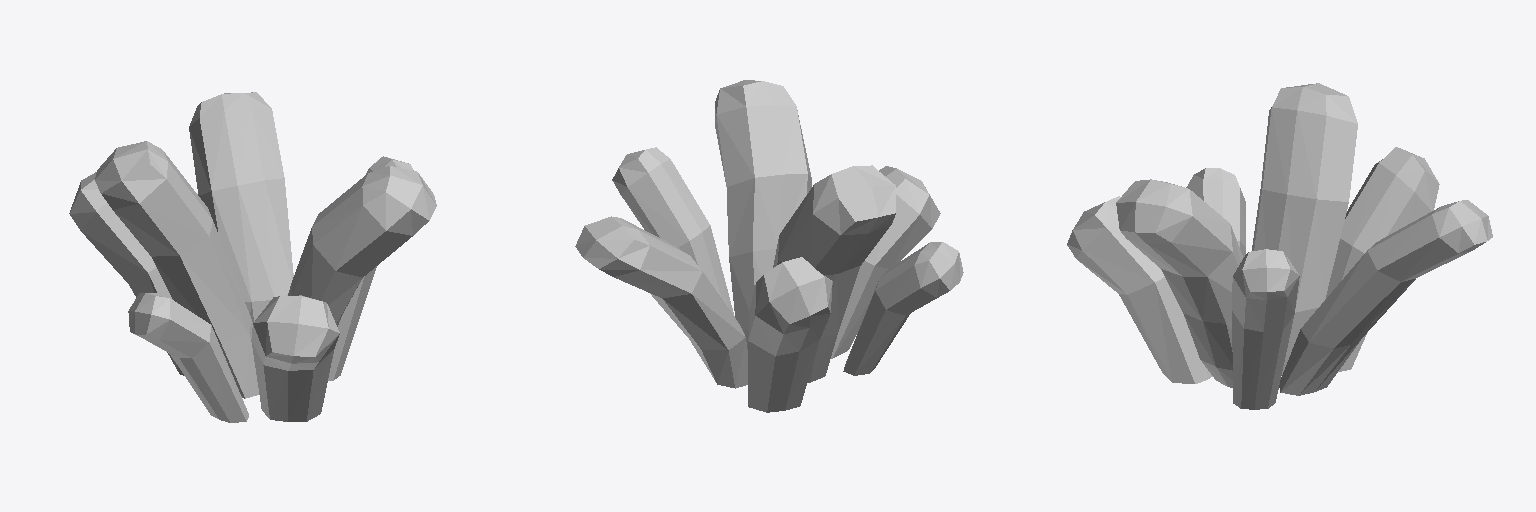
Rendered from Anemone_A_01_LOD1.obj.
The picture shows the model from 3 angles: view 1: azimuth 30°, elevation 25°; view 2: azimuth 150°, elevation 25°; view 3: azimuth 270°, elevation 25°; orthographic projection.
Parts seen in each view (by area): view 1: Anemone_A_01_LOD1_Cylinder.402; view 2: Anemone_A_01_LOD1_Cylinder.402; view 3: Anemone_A_01_LOD1_Cylinder.402.
Part boxes in pixels (x1,y1,x2,y2): Anemone_A_01_LOD1_Cylinder.402: (69, 92, 436, 422); Anemone_A_01_LOD1_Cylinder.402: (575, 80, 963, 412); Anemone_A_01_LOD1_Cylinder.402: (1067, 83, 1492, 409).
Bounding box in the file's own units: 3.76 × 2.8 × 4.44.